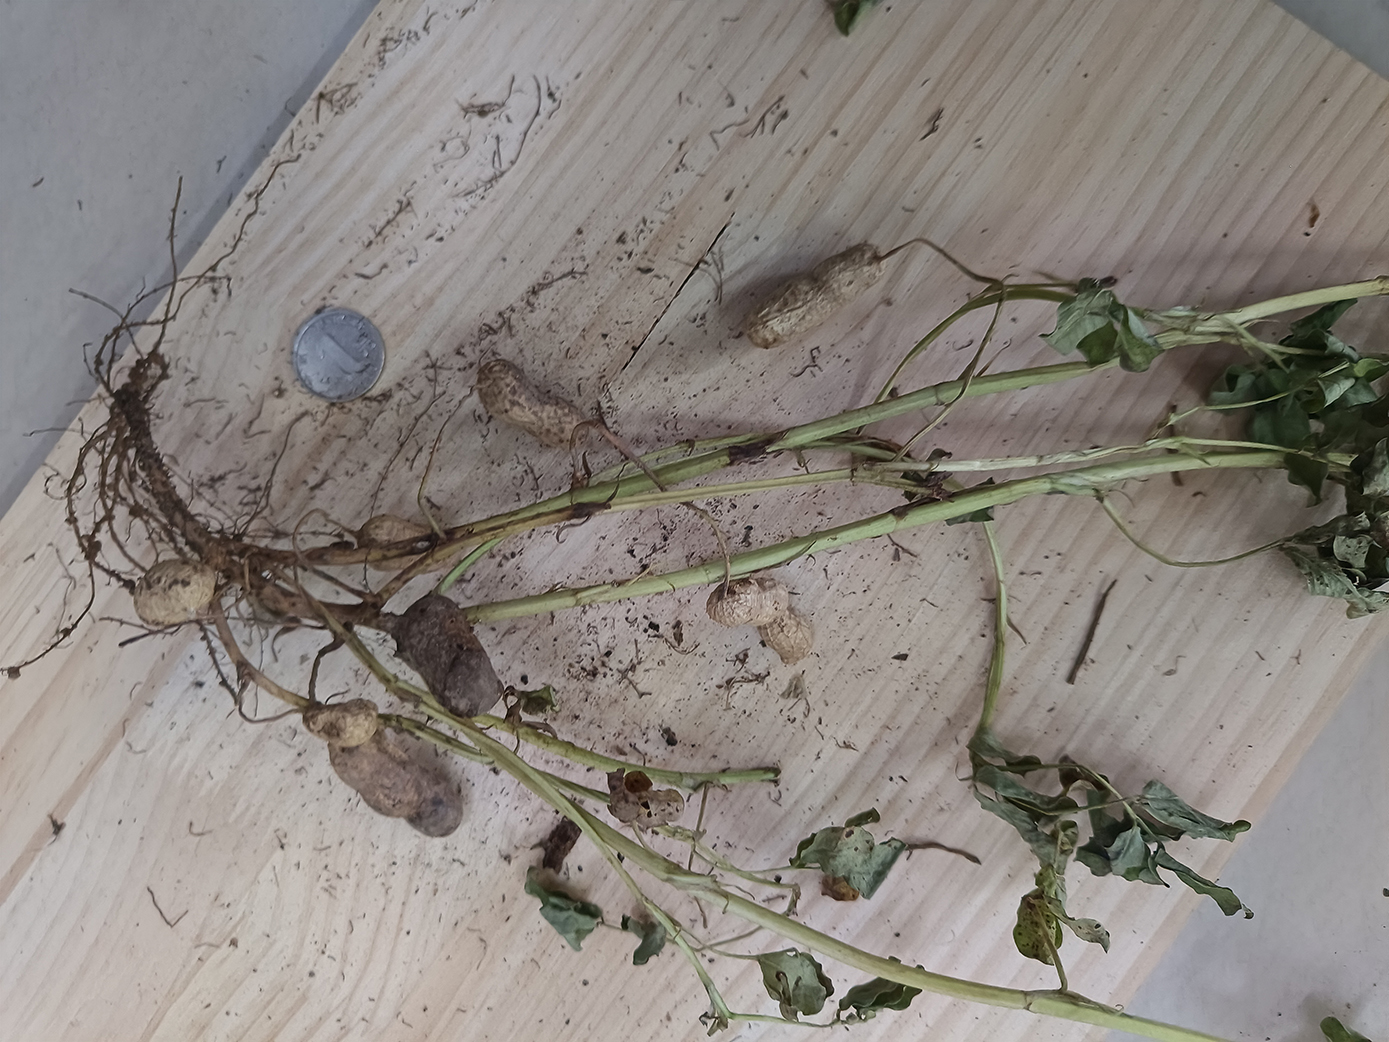h: (746, 241, 887, 349), (476, 362, 589, 449), (707, 572, 813, 661), (134, 559, 215, 625), (360, 517, 452, 574), (304, 696, 377, 746)
l: (329, 742, 465, 840), (398, 597, 503, 718)
